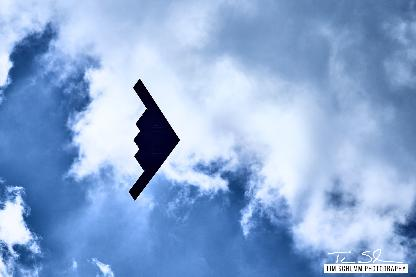B1: (128, 78, 180, 199)
